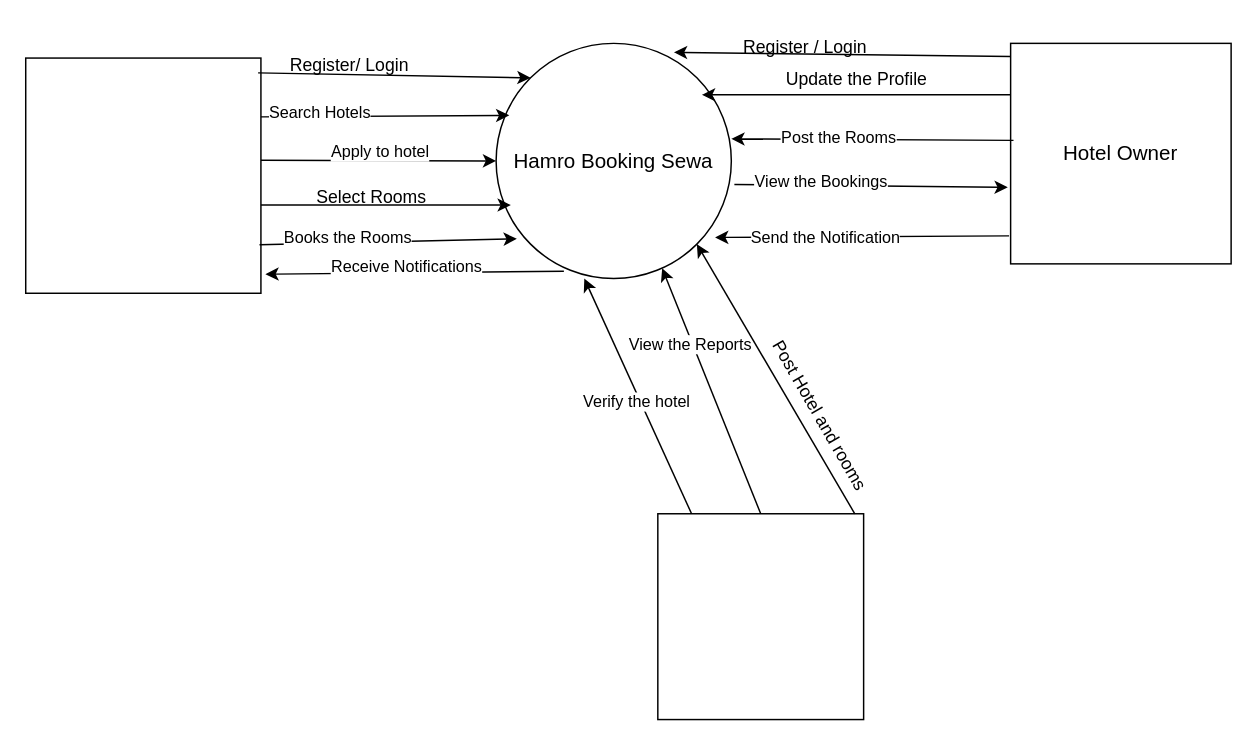
This 1257x745 diagram has some shape labels left out. Here are the shapes that lost their labels. From the top down, the centre of each, then its label:
(142,175): End user
(760,616): Super Admin
